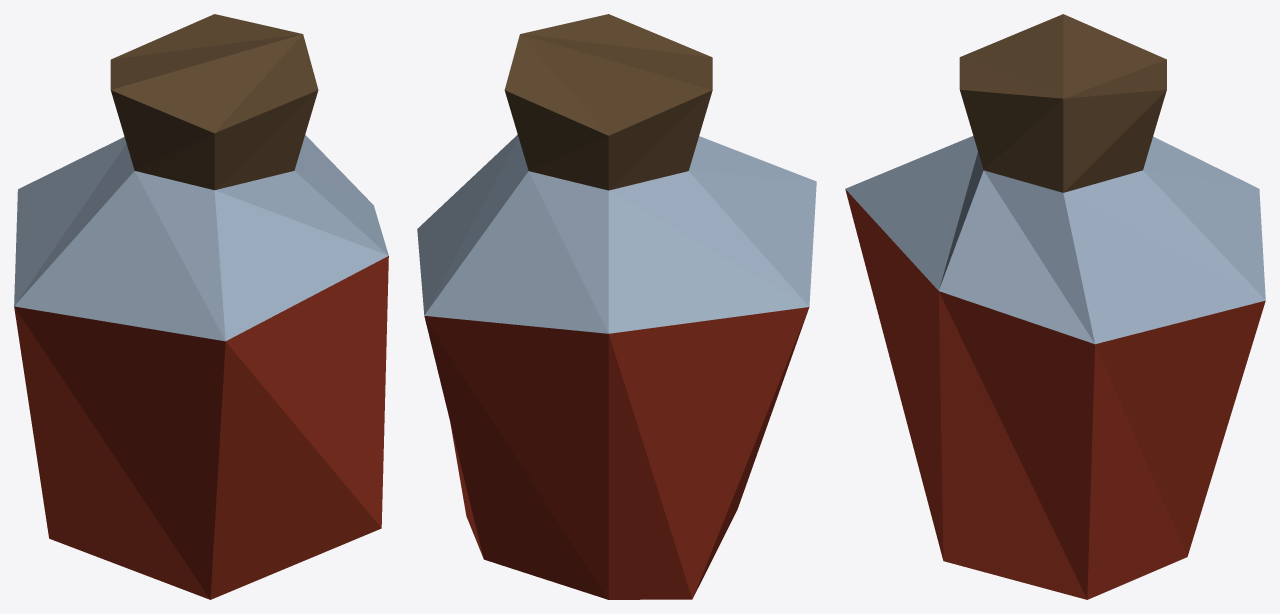
The model's file is potion_02.fbx.
The picture shows the model from 3 angles, left to right: view 1: azimuth 30°, elevation 25°; view 2: azimuth 150°, elevation 25°; view 3: azimuth 270°, elevation 25°; orthographic projection.
Parts seen in each view (by area): view 1: potion_02; view 2: potion_02; view 3: potion_02.
Boxes of the visible parts, left/top/right/bottom form: potion_02: left=14, top=14, right=388, bottom=599; potion_02: left=417, top=14, right=816, bottom=599; potion_02: left=845, top=14, right=1265, bottom=599.
Bounding box in the file's own units: 1.14 × 1.4 × 1.11.
